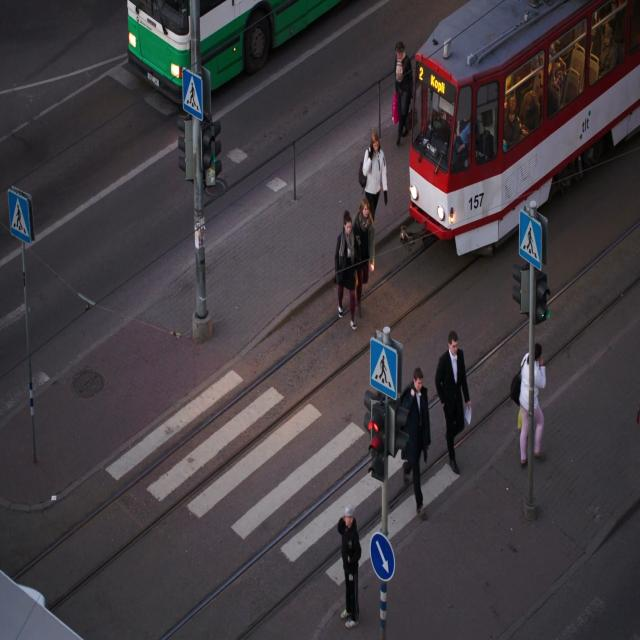pedestrian: (335, 131, 384, 327), (335, 130, 386, 316), (435, 331, 471, 474), (435, 331, 470, 474), (399, 367, 431, 517), (401, 368, 430, 517), (516, 353, 528, 465), (534, 343, 546, 455)
